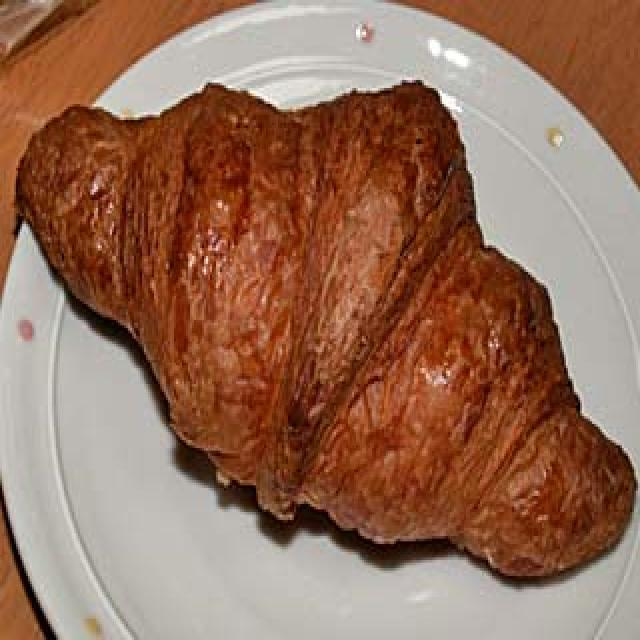Croissant: (18, 60, 638, 588)
